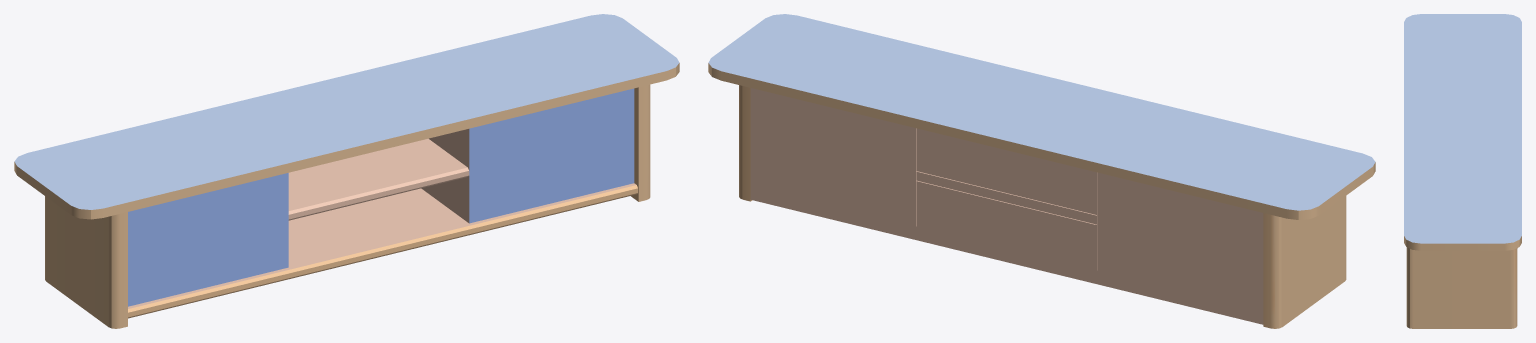
File: Table-.fbx
3 views of the same model, side by side, from view 1: azimuth 30°, elevation 25°; view 2: azimuth 150°, elevation 25°; view 3: azimuth 270°, elevation 25° (orthographic). The views are drawn at different scales.
Visible parts, largest first — view 1: Table; view 2: Table; view 3: Table.
Boxes of the visible parts, x1,y1,x2,y2 form: Table: (14, 14, 679, 328); Table: (708, 14, 1375, 328); Table: (1404, 14, 1521, 328).
Bounding box in the file's own units: 202 × 40 × 43.75.
1 material, 1 textured.
